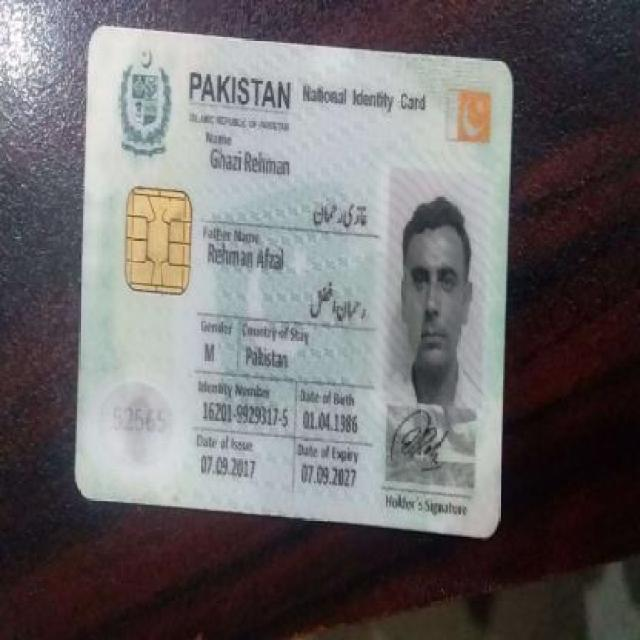Front: (63, 23, 509, 545)
